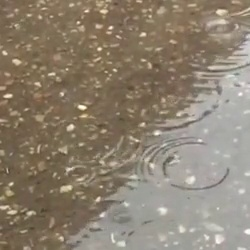drop: (138, 139, 231, 194), (204, 17, 237, 37), (64, 164, 95, 184)
